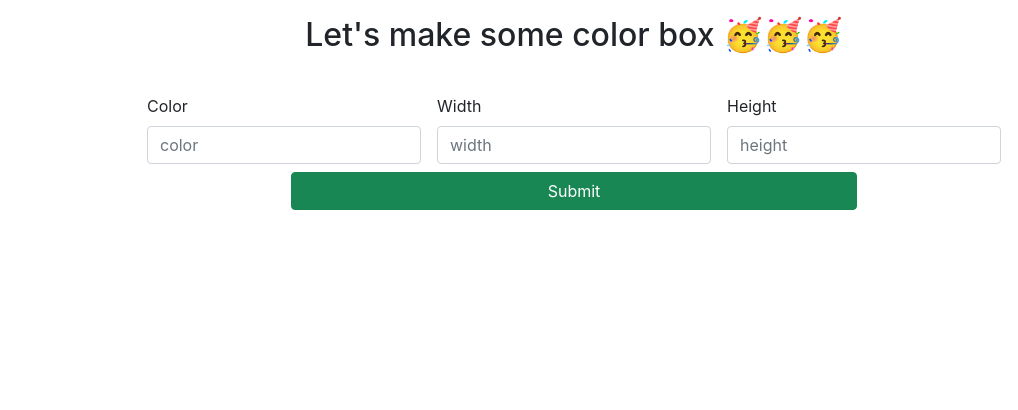
Test case: deletes a box
Check: the text "Delete me!" is not shown
In the field labelled "Color": (284,145) [147, 126, 421, 164], type "green"
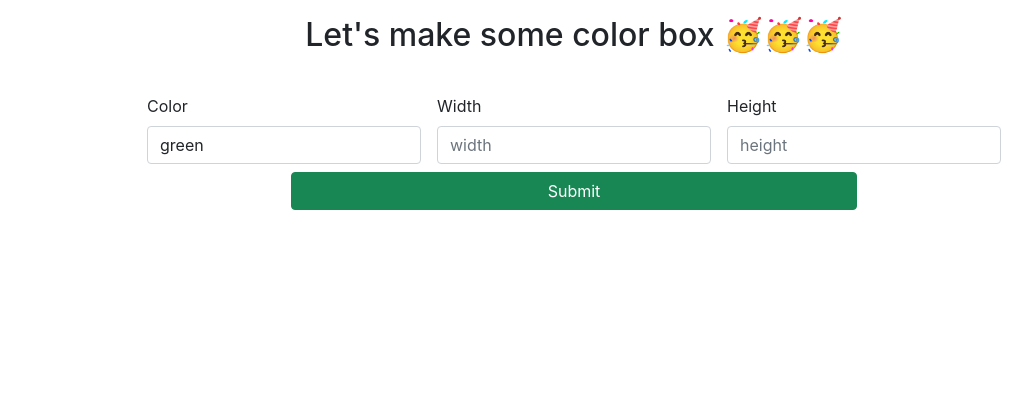
In the field labelled "Height": (864,145) [727, 126, 1001, 164], type "100px"
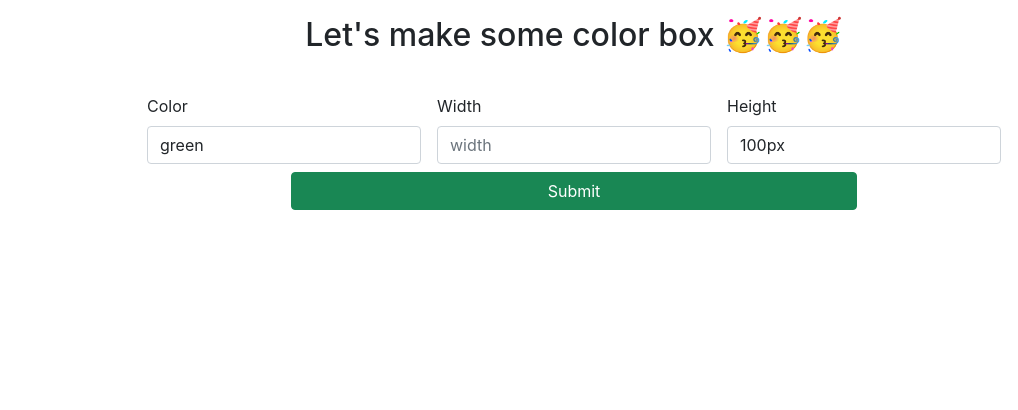
In the field labelled "Width": (574,145) [437, 126, 711, 164], type "150px"
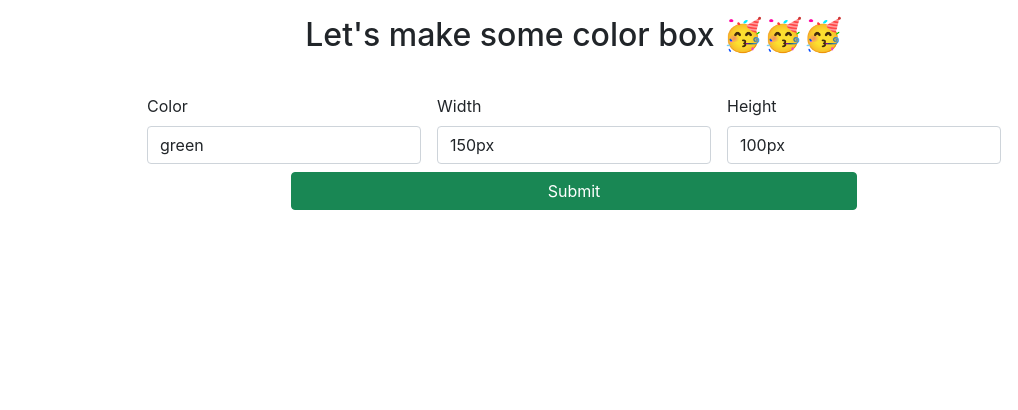
Click the button "Submit": (574,191) [291, 172, 857, 210]
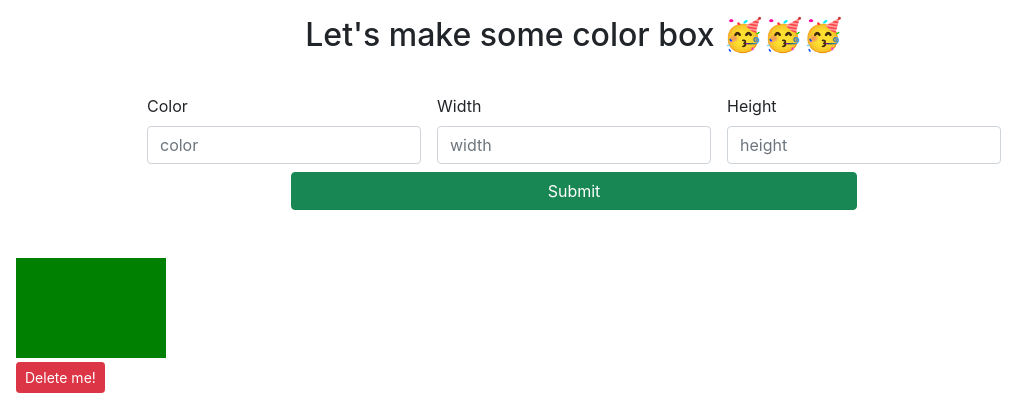
Click the button "Delete me!": (60,378) [16, 362, 105, 393]
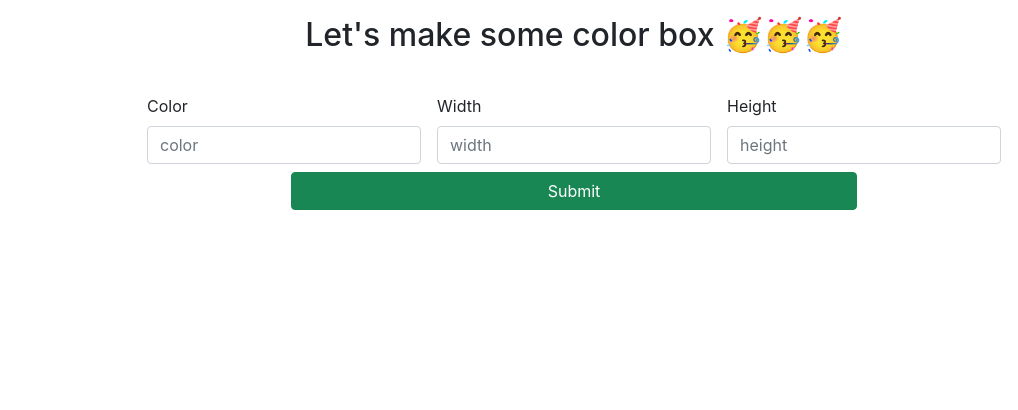
Check: the button "Delete me!" is gone
